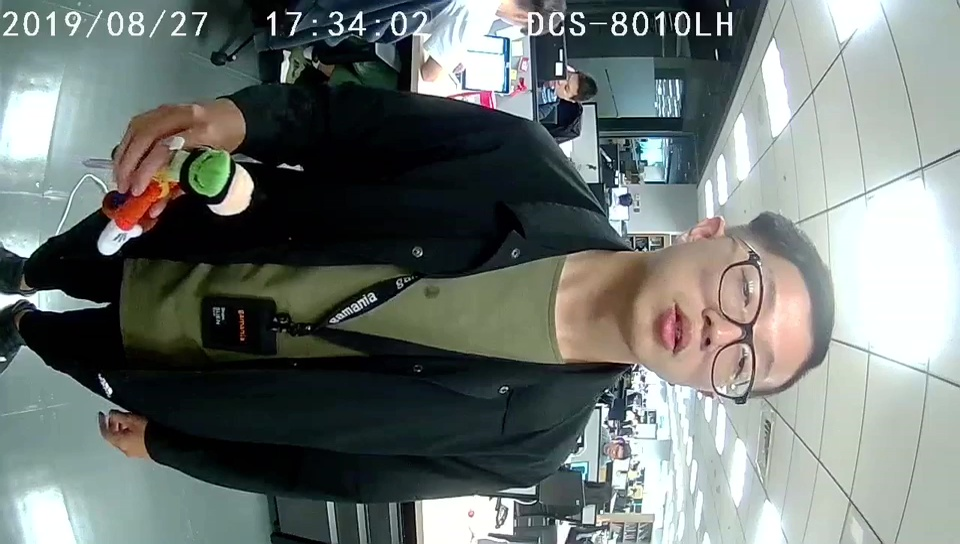goofy: (97, 143, 255, 259)
